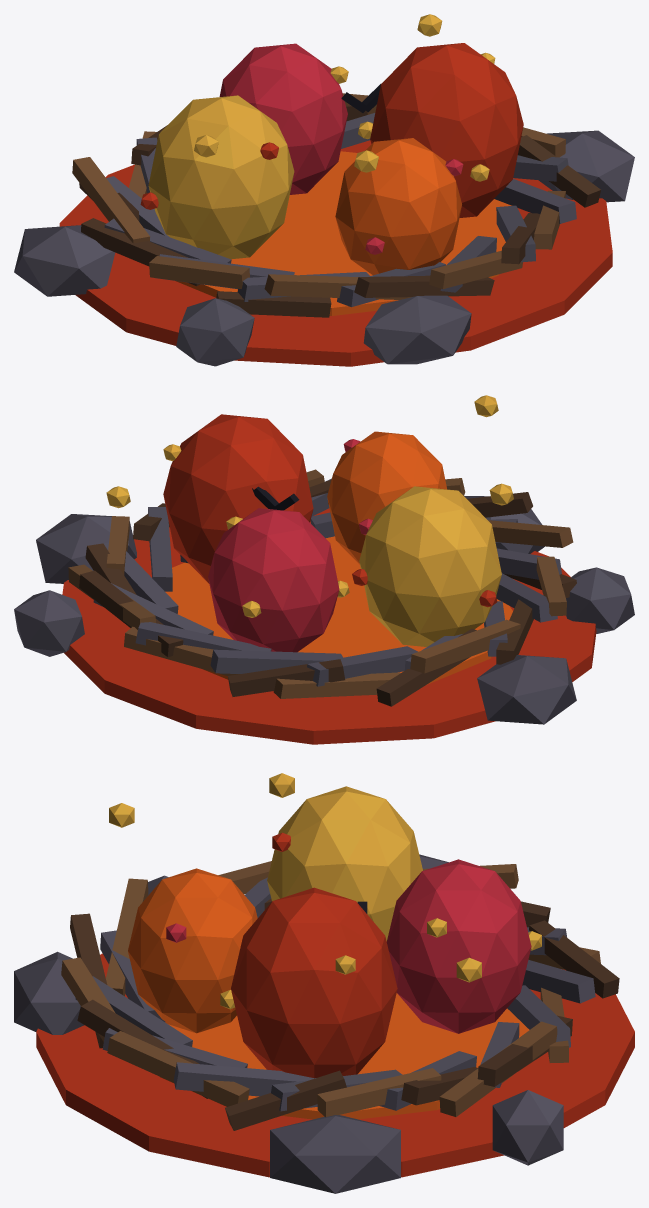
Rendered from Decor_Volcano_Eggs.fbx.
3 views of the same model, one above another, from view 1: azimuth 30°, elevation 25°; view 2: azimuth 150°, elevation 25°; view 3: azimuth 270°, elevation 25° (orthographic). The views are drawn at different scales.
Parts seen in each view (by area): view 1: Eggs_Body; view 2: Eggs_Body; view 3: Eggs_Body.
Part boxes in pixels (bbox=[...]): Eggs_Body: bbox=[14, 14, 634, 366]; Eggs_Body: bbox=[14, 395, 634, 744]; Eggs_Body: bbox=[14, 773, 634, 1193].
Size of the model in its own units: 13.48 by 4.5 by 11.49.
